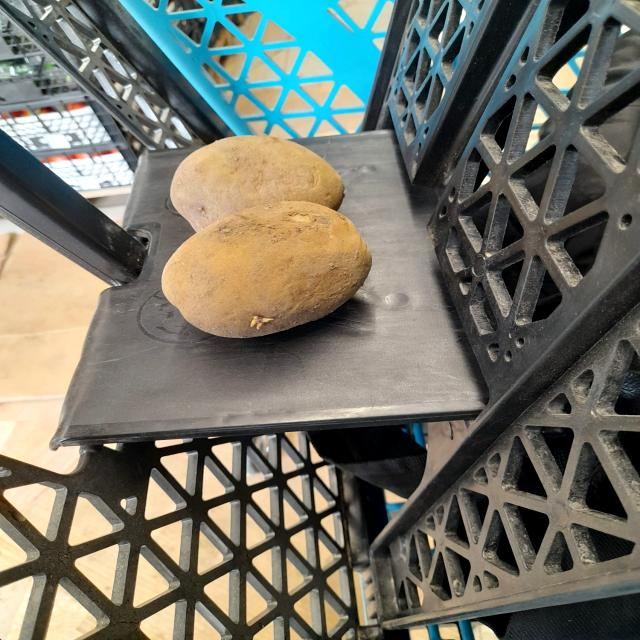potato: (153, 188, 380, 346), (164, 125, 348, 231)
